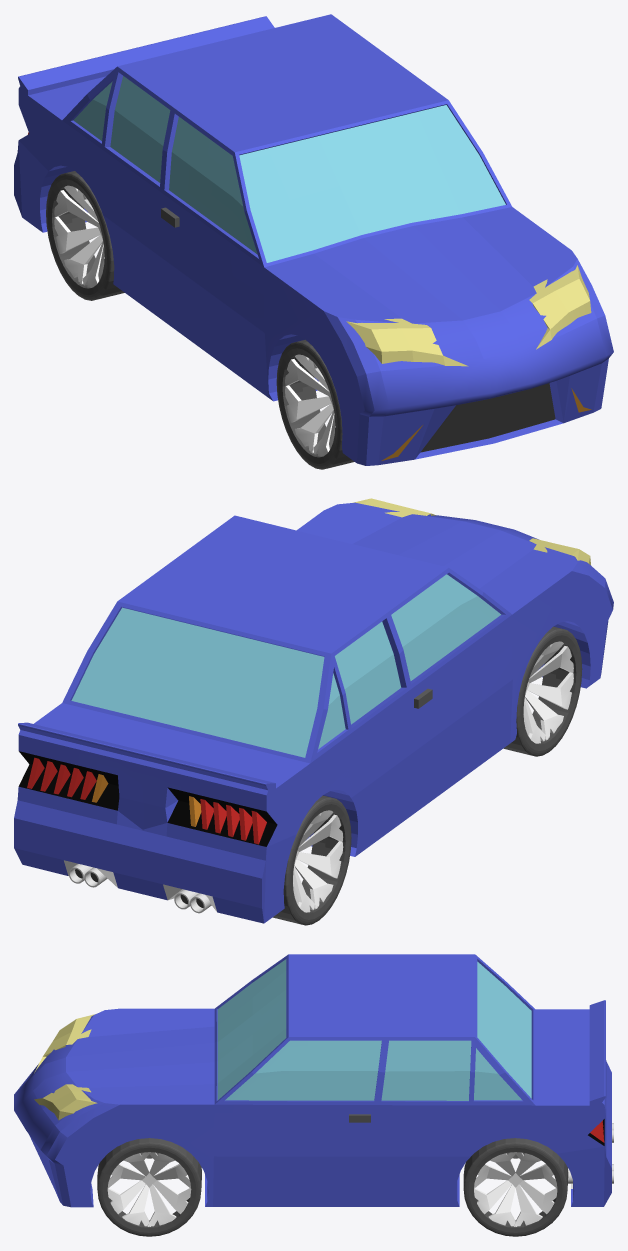
File: carx.fbx
3 renders of one model, top to bottom at view 1: azimuth 30°, elevation 25°; view 2: azimuth 150°, elevation 25°; view 3: azimuth 270°, elevation 25°, orthographic. The views are drawn at different scales.
Parts seen in each view (by area): view 1: Cube; view 2: Cube; view 3: Cube.
Boxes of the visible parts, x1,y1,x2,y2 form: Cube: (14,14,613,469); Cube: (14,498,613,925); Cube: (14,954,613,1236).
Size of the model in its own units: 240 by 220 by 613.
